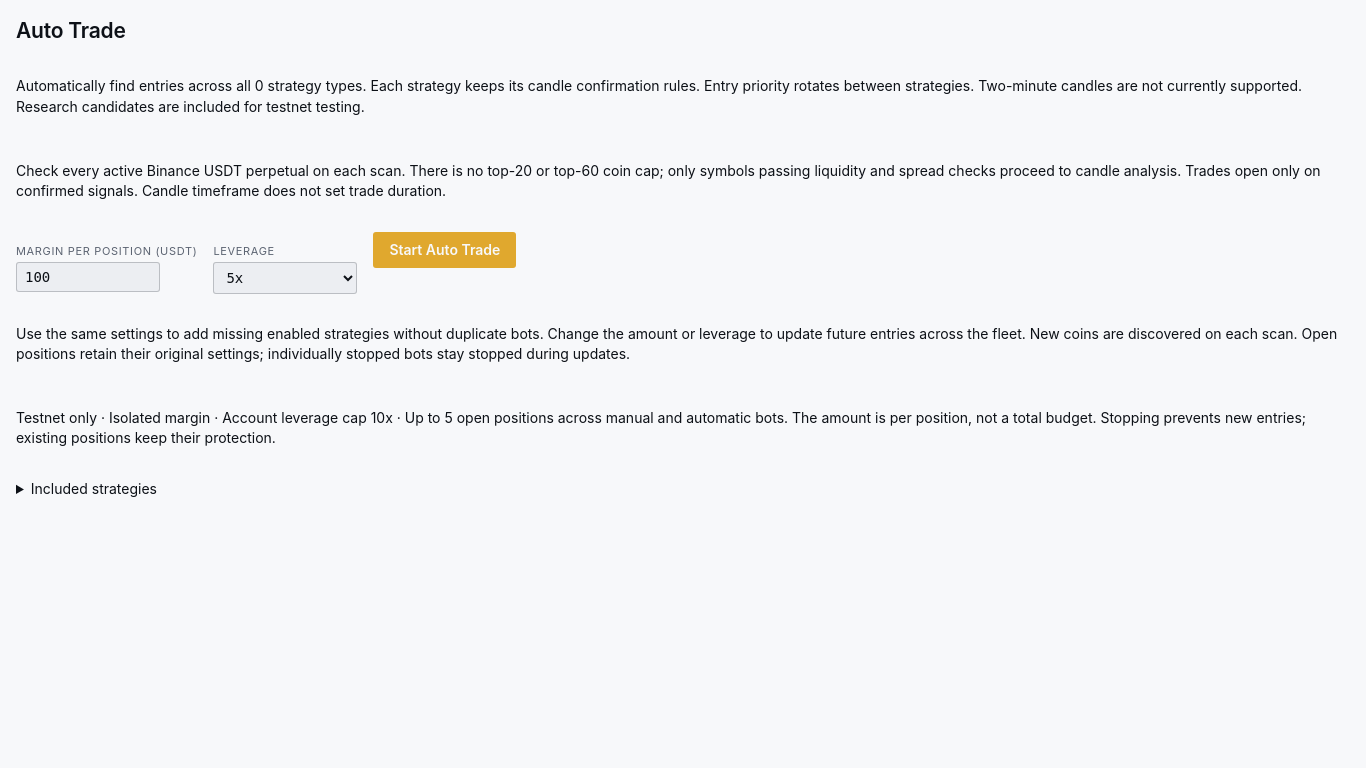
Test: starts only after explicit click with chosen margin and leverage
This screenshot has width=1366, height=768.
Replace the text in the number field labelled "Margin per position (USDT)" with "25" at (88, 277), box [16,262,160,292]
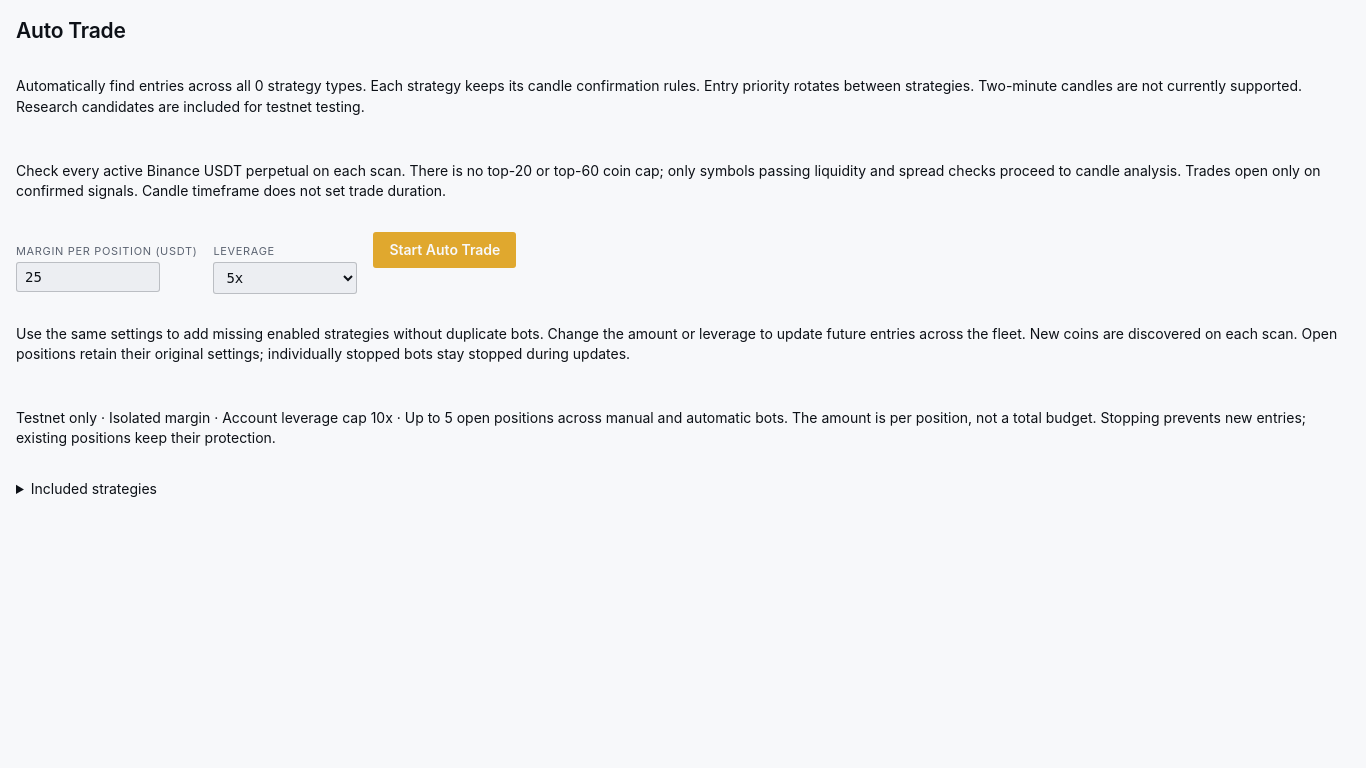
Select "3x" in the dropdown labelled "Leverage" at (285, 278), box [213,262,357,294]
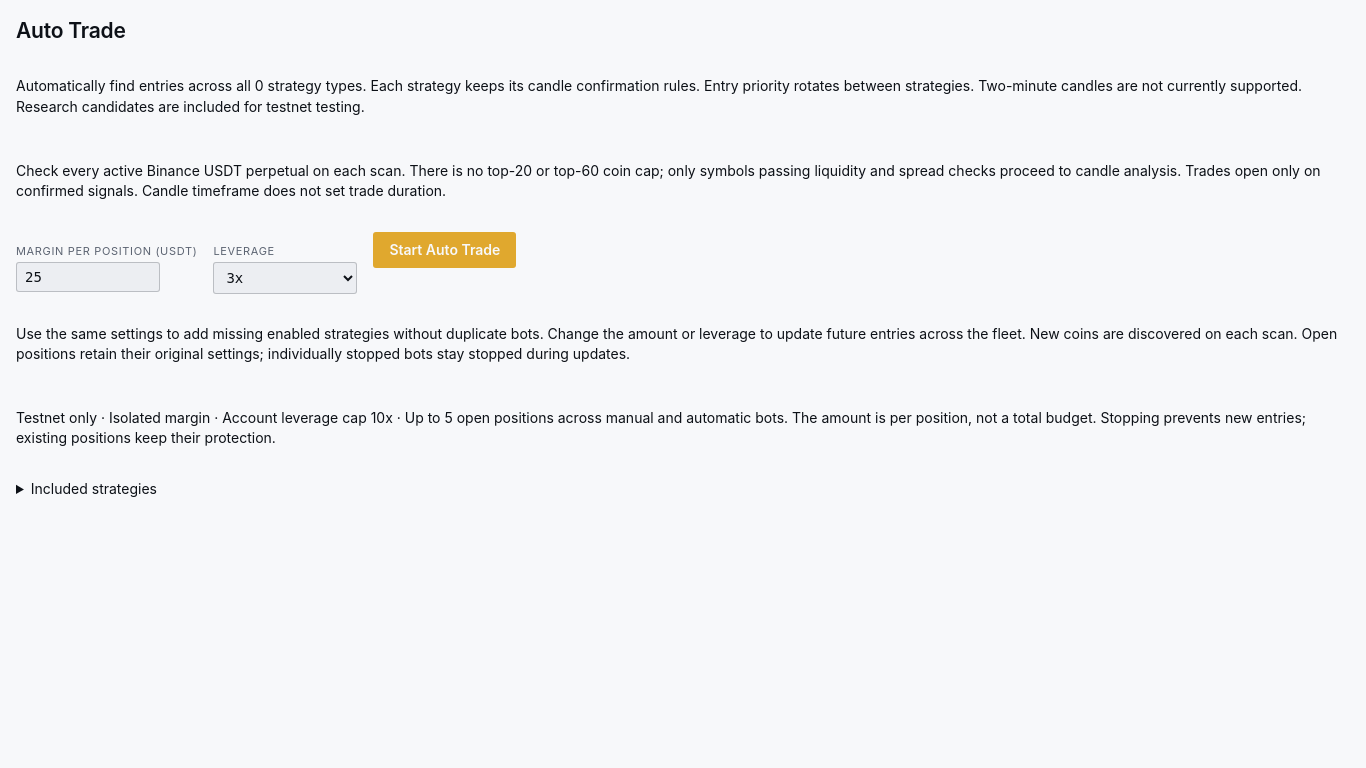
Click the button "Start Auto Trade".
click(445, 250)  # box [373,232,516,268]
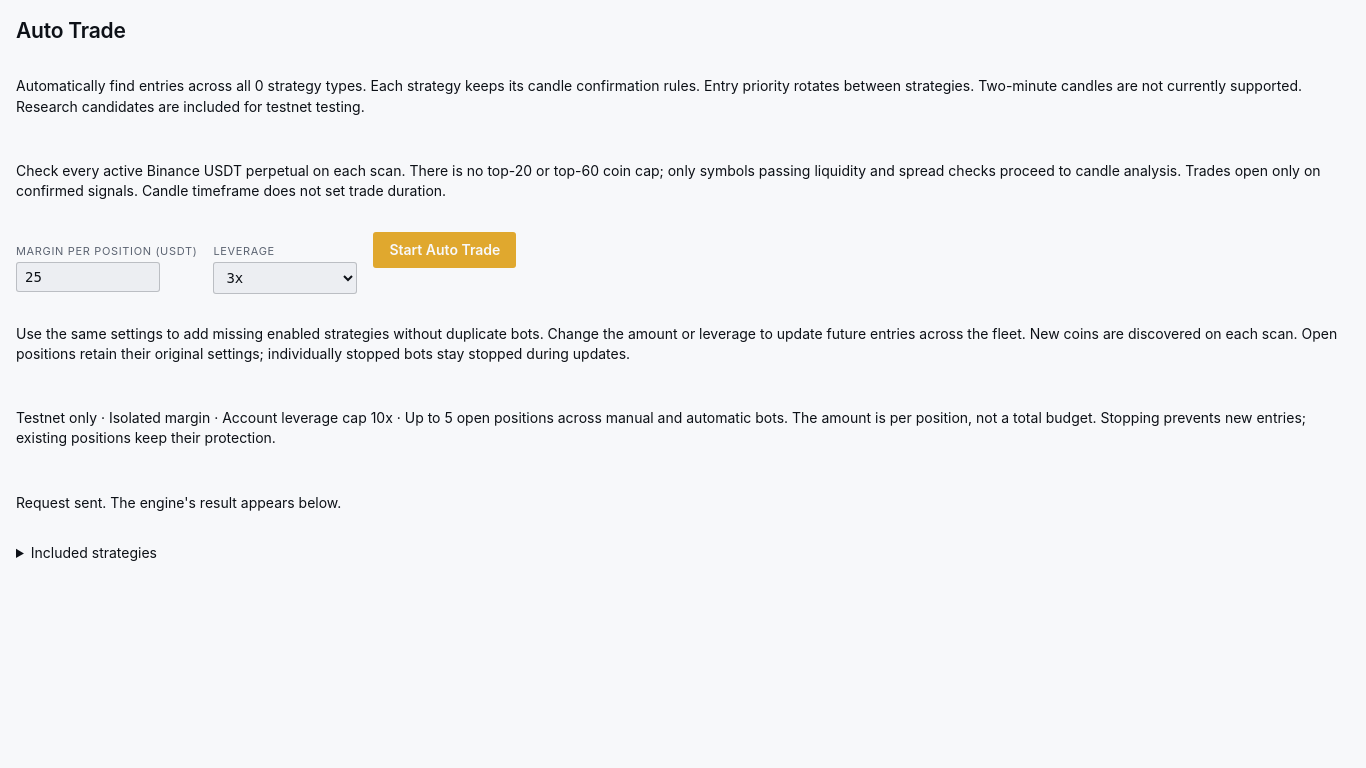
Check: the text "Request sent. The engine's result appears below." is shown, box [16,494,341,511]
